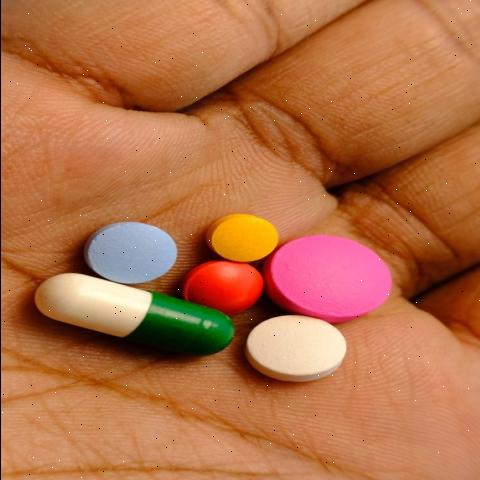Pill: (243, 312, 368, 390)
